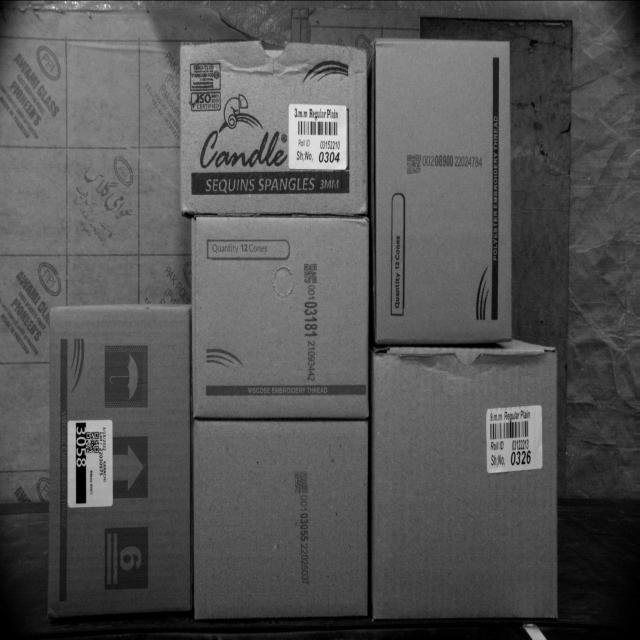cardboxes: (372, 346, 560, 621), (49, 304, 191, 614), (374, 43, 513, 344), (194, 216, 372, 418), (191, 418, 370, 618), (182, 42, 370, 214)
